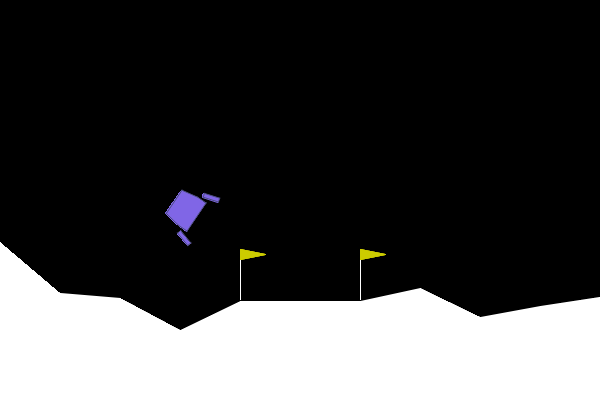lander: (155, 176, 222, 248)
